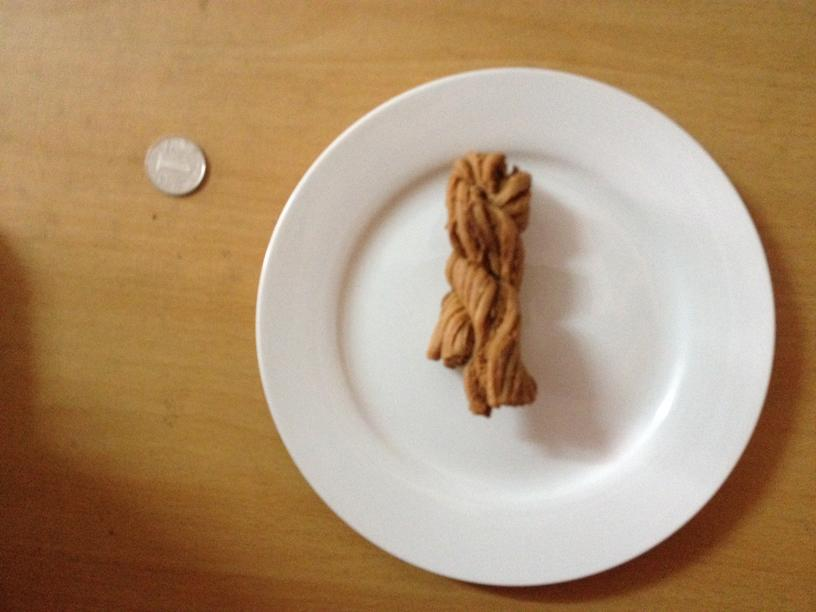coin: (147, 136, 207, 195)
fired_dough_twist: (432, 151, 538, 417)
